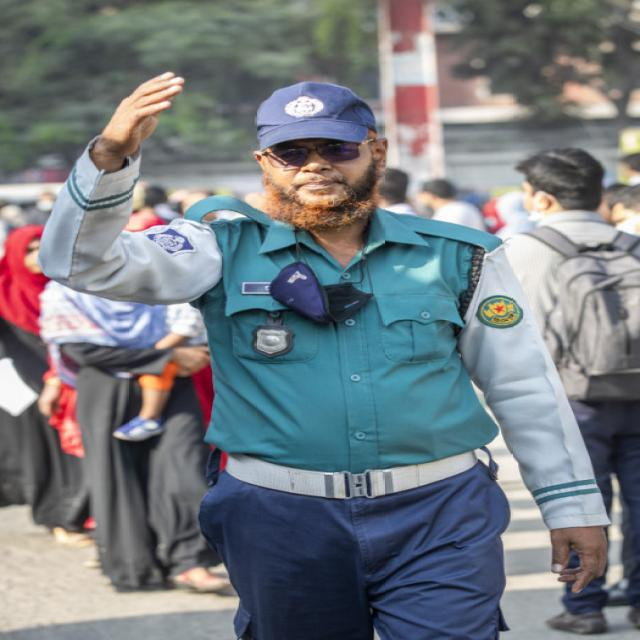traffic-police: (32, 39, 615, 640)
